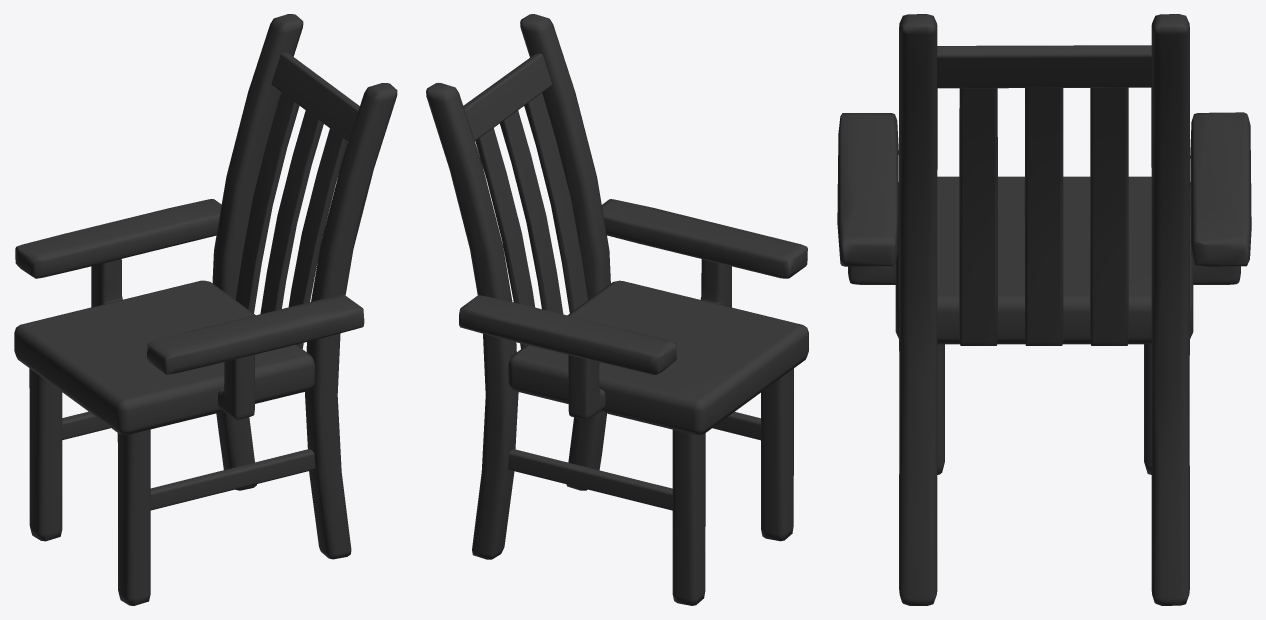
The model's file is chair_08_gray.fbx.
3 views of the same model, side by side, from view 1: azimuth 30°, elevation 25°; view 2: azimuth 150°, elevation 25°; view 3: azimuth 270°, elevation 25° (orthographic). The views are drawn at different scales.
Parts seen in each view (by area): view 1: chair_08_gray; view 2: chair_08_gray; view 3: chair_08_gray.
Boxes of the visible parts, left/top/right/bottom form: chair_08_gray: left=14, top=14, right=397, bottom=605; chair_08_gray: left=426, top=14, right=808, bottom=605; chair_08_gray: left=837, top=14, right=1251, bottom=605.
Size of the model in its own units: 67.91 by 106 by 64.81.
Materials: 1 (1 with a texture image).
